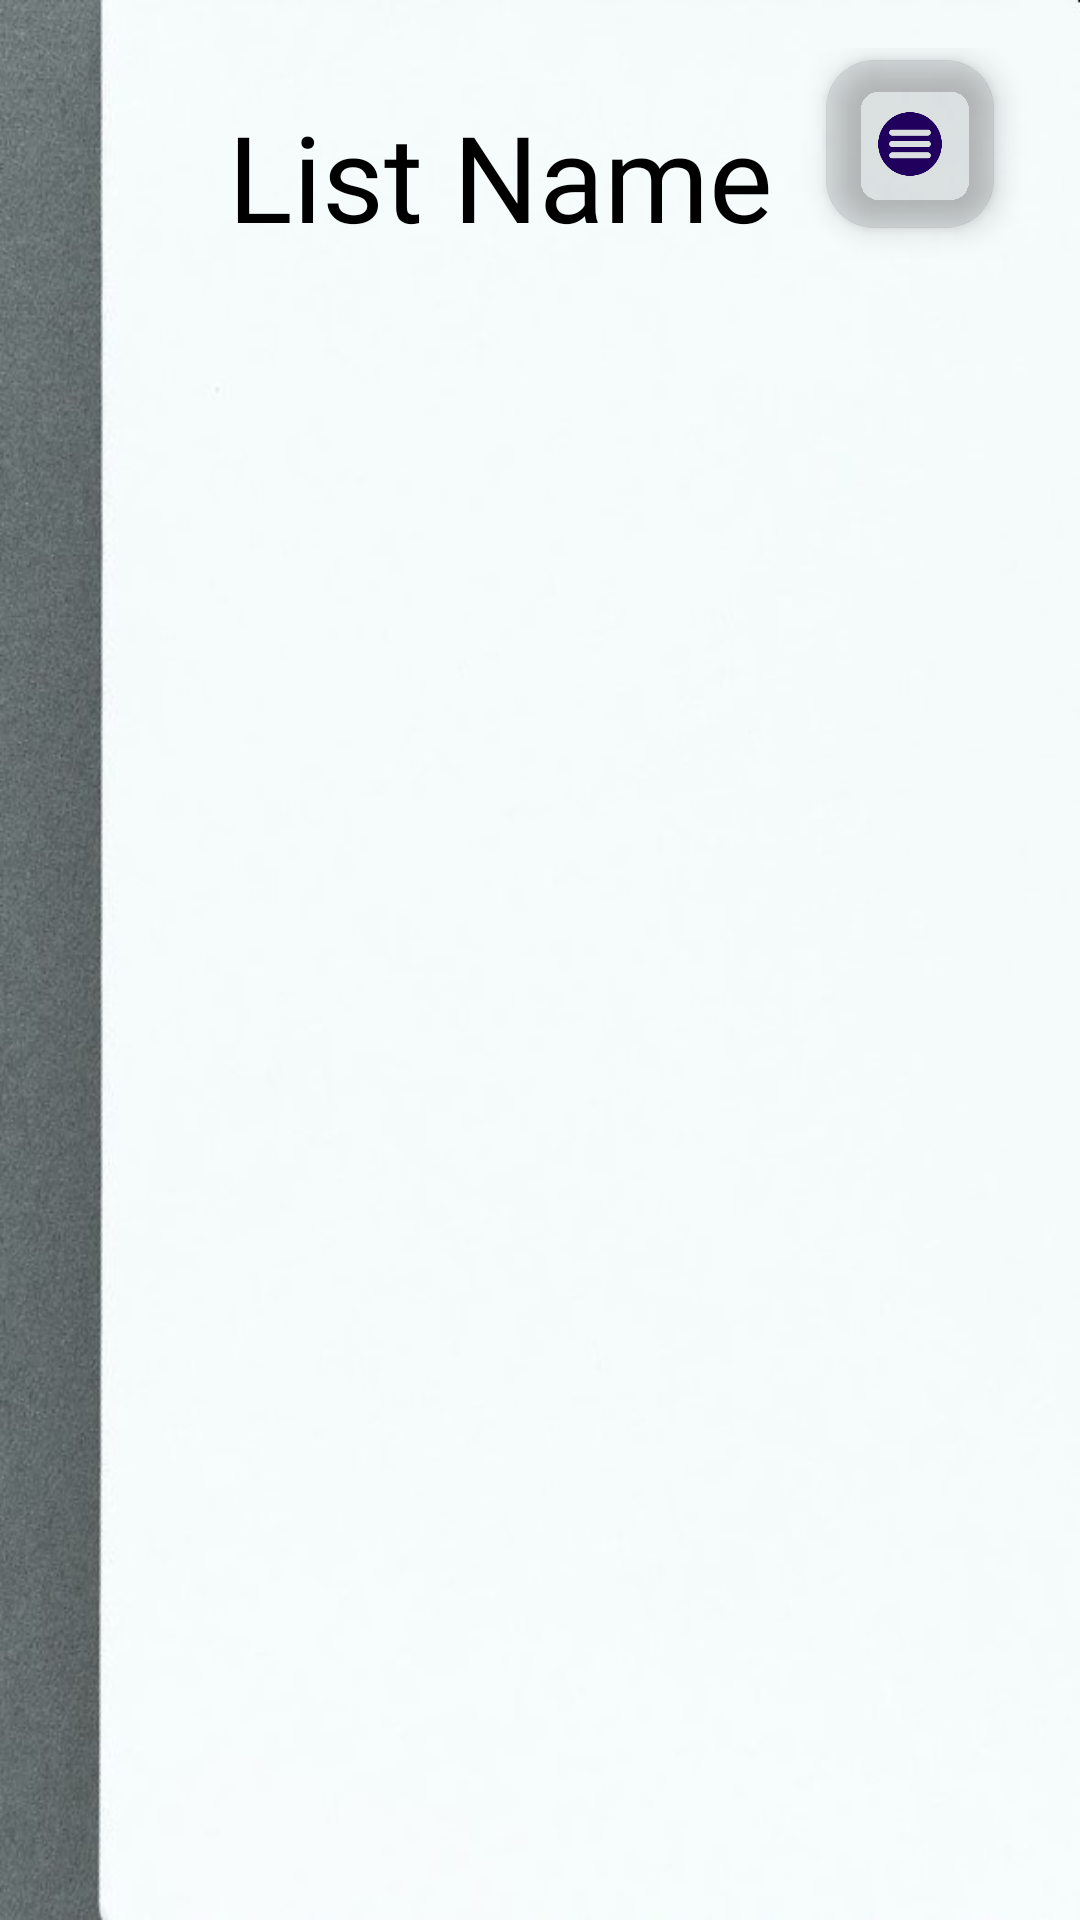

Named icons in this screenshot (1080w x 1920h) and their bounding boxes, (x1, y1, x2, y2):
options: (826, 60, 994, 228)
